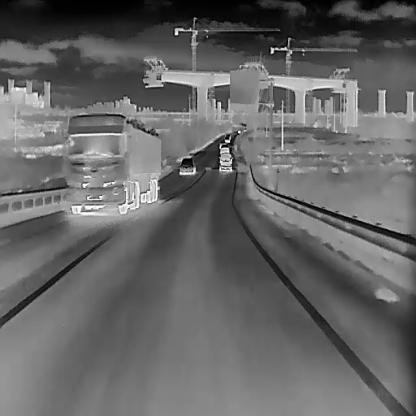car: (218, 152, 233, 173), (179, 157, 194, 175), (218, 142, 229, 154), (223, 136, 229, 142), (226, 132, 230, 138), (243, 127, 246, 132), (236, 130, 240, 133)
truck: (66, 112, 160, 214)
